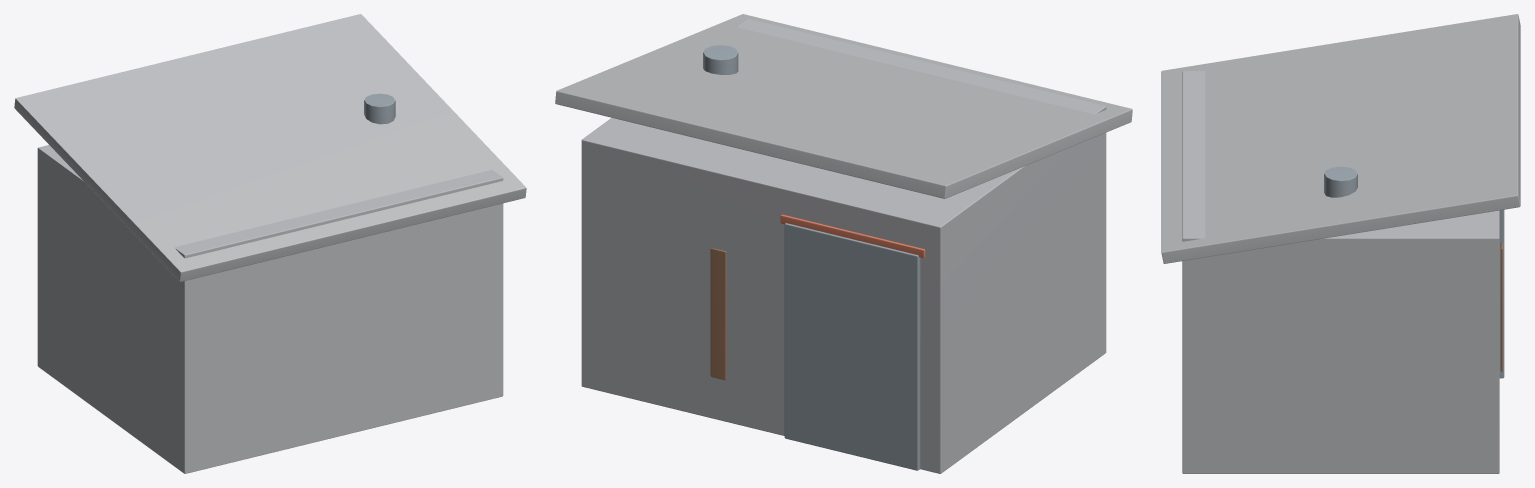
Rendered from corrugated_shed.glb.
3 renders of one model, left to right at view 1: azimuth 30°, elevation 25°; view 2: azimuth 150°, elevation 25°; view 3: azimuth 270°, elevation 25°, orthographic. The views are drawn at different scales.
Parts seen in each view (by area): view 1: corrugated_shed; view 2: corrugated_shed; view 3: corrugated_shed.
Boxes of the visible parts, box(x1,y1,x2,y2) form: corrugated_shed: box(14, 14, 526, 473); corrugated_shed: box(555, 14, 1132, 473); corrugated_shed: box(1161, 14, 1520, 473).
Size of the model in its own units: 3.8 by 2.79 by 3.17.
